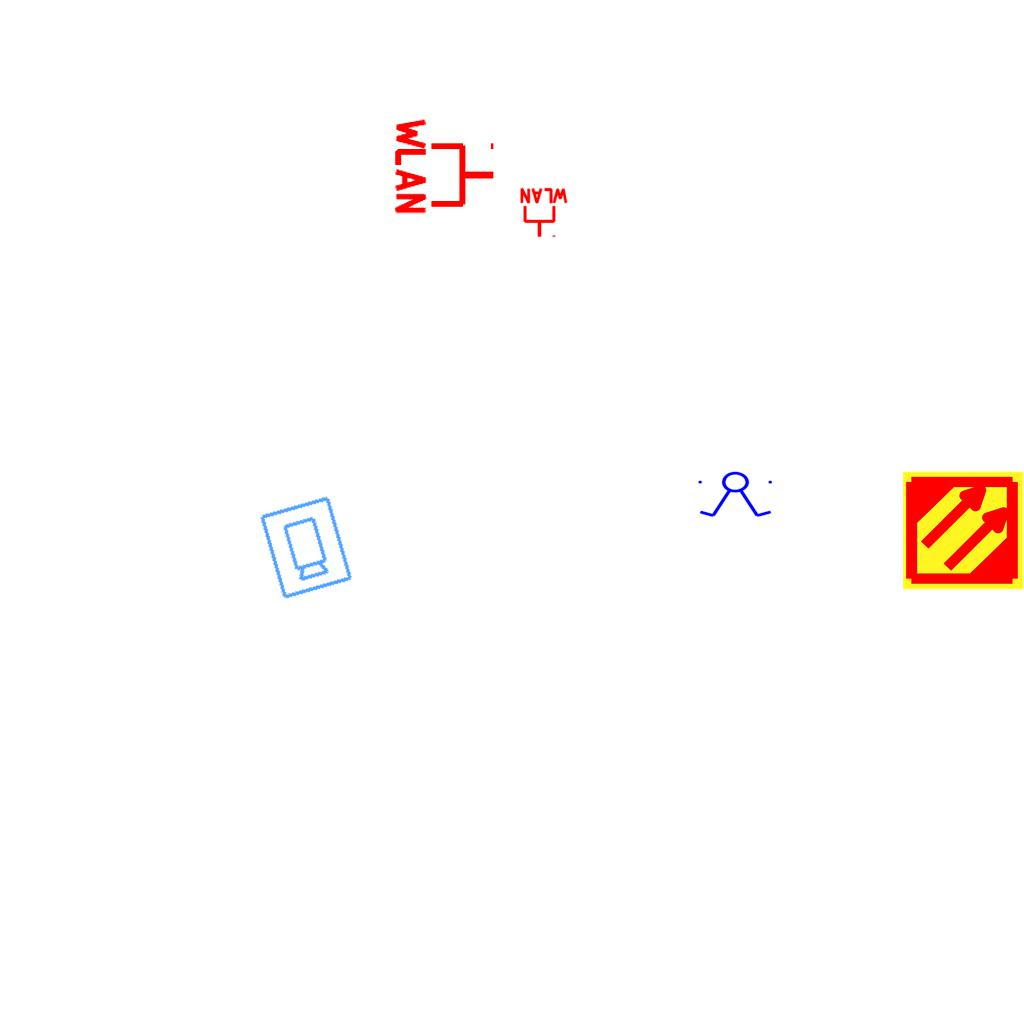ASR_Ansaugrauchmelder: (901, 468, 1024, 593)
KFO_Kamera_mit_Festobjektiv: (255, 493, 356, 602)
Serienschalter: (694, 471, 778, 519)
WLAN: (393, 114, 498, 218), (518, 187, 570, 239)
